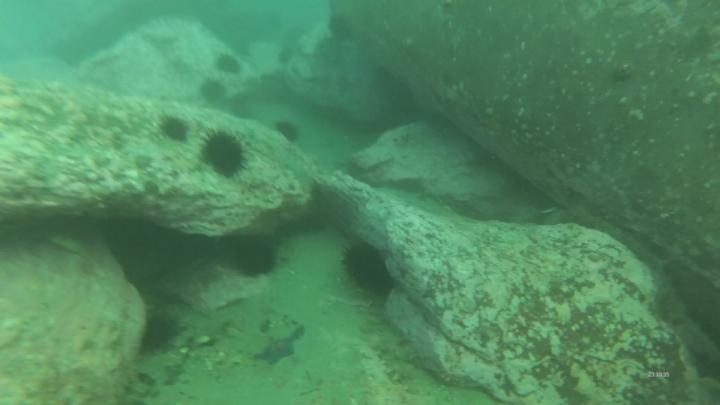echinus: (336, 236, 404, 299), (191, 124, 258, 184), (221, 230, 289, 280), (142, 311, 189, 355), (153, 113, 191, 149), (210, 50, 247, 81), (199, 76, 232, 105), (274, 118, 304, 146)
starfish: (253, 330, 301, 370)
